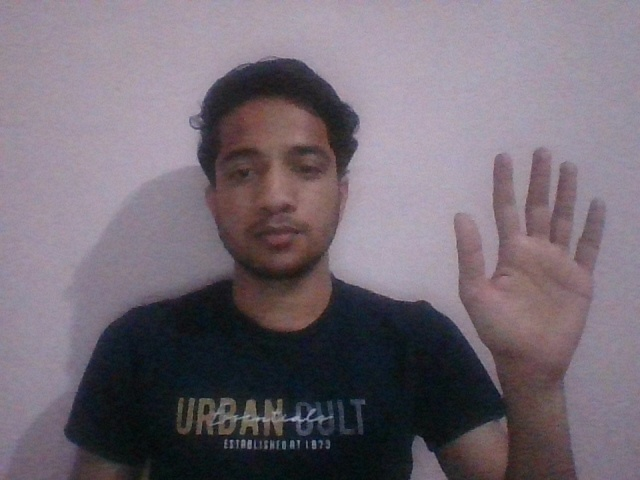Hello: (453, 147, 610, 373)
